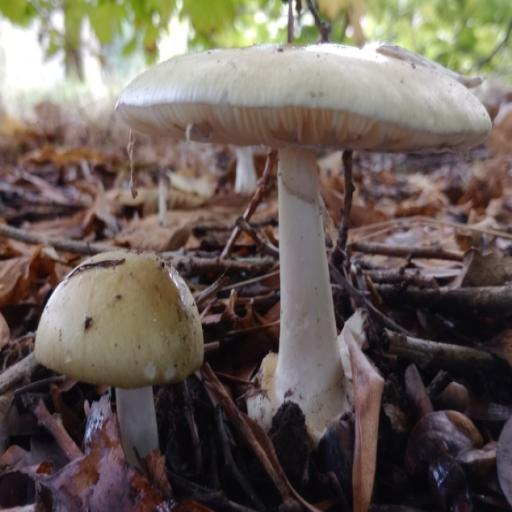mushroom: (26, 0, 495, 453), (12, 222, 255, 472)
